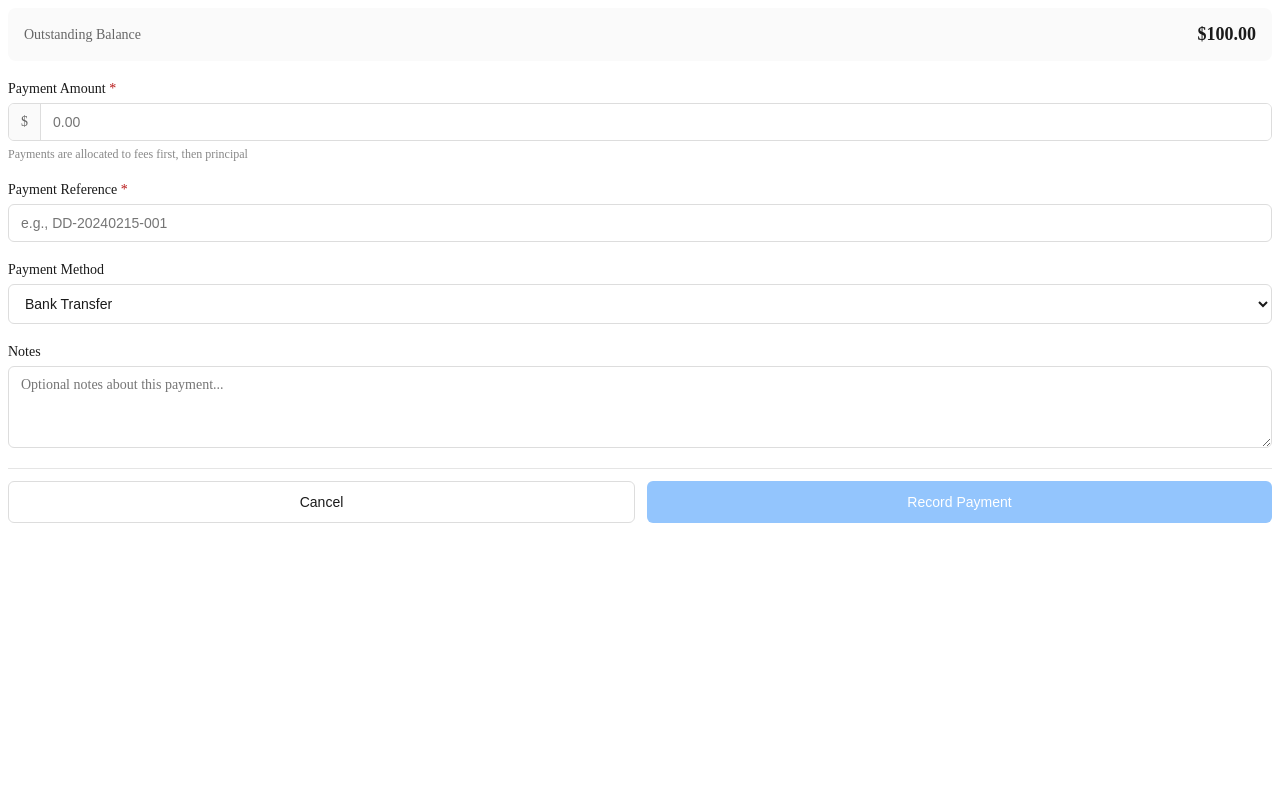
Test: RecordRepaymentDrawer › overpayment detection › should show overpayment confirmation when amount exceeds balance
Enter overpayment
Step 1. Type "150" into the number field labelled "Payment Amount *" → (656, 122), box [41, 104, 1271, 140]
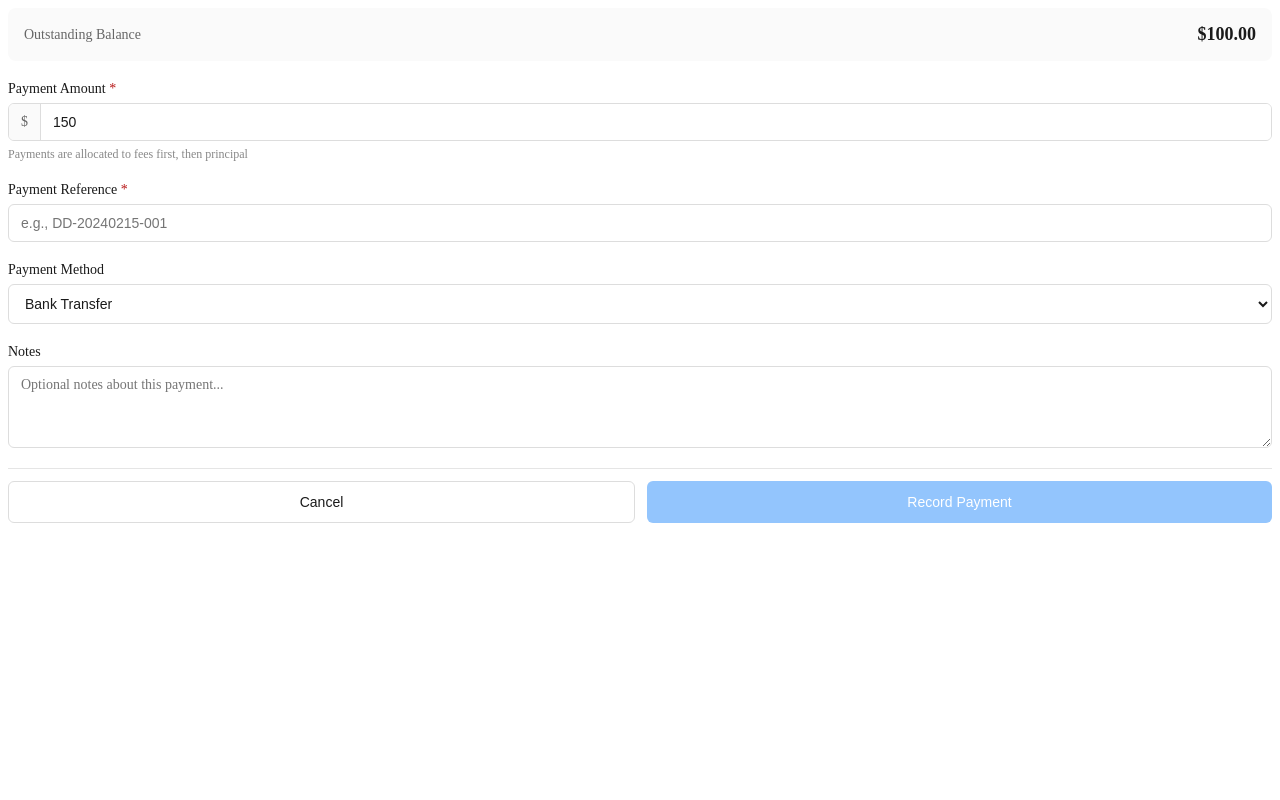
Step 2. Type "REF-001" into the field labelled "Payment Reference *" → (640, 223), box [8, 204, 1272, 242]
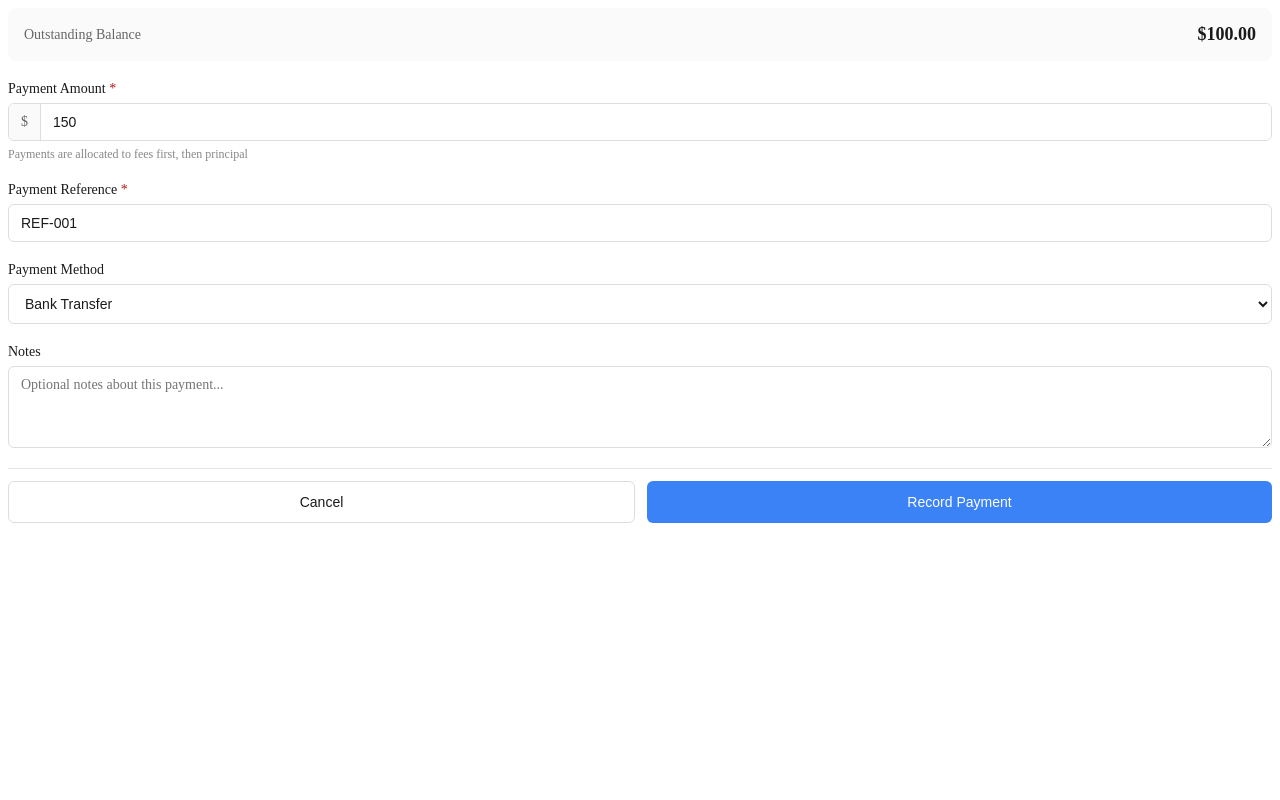
Submit form
Step 3. Submit the form named "record payment"
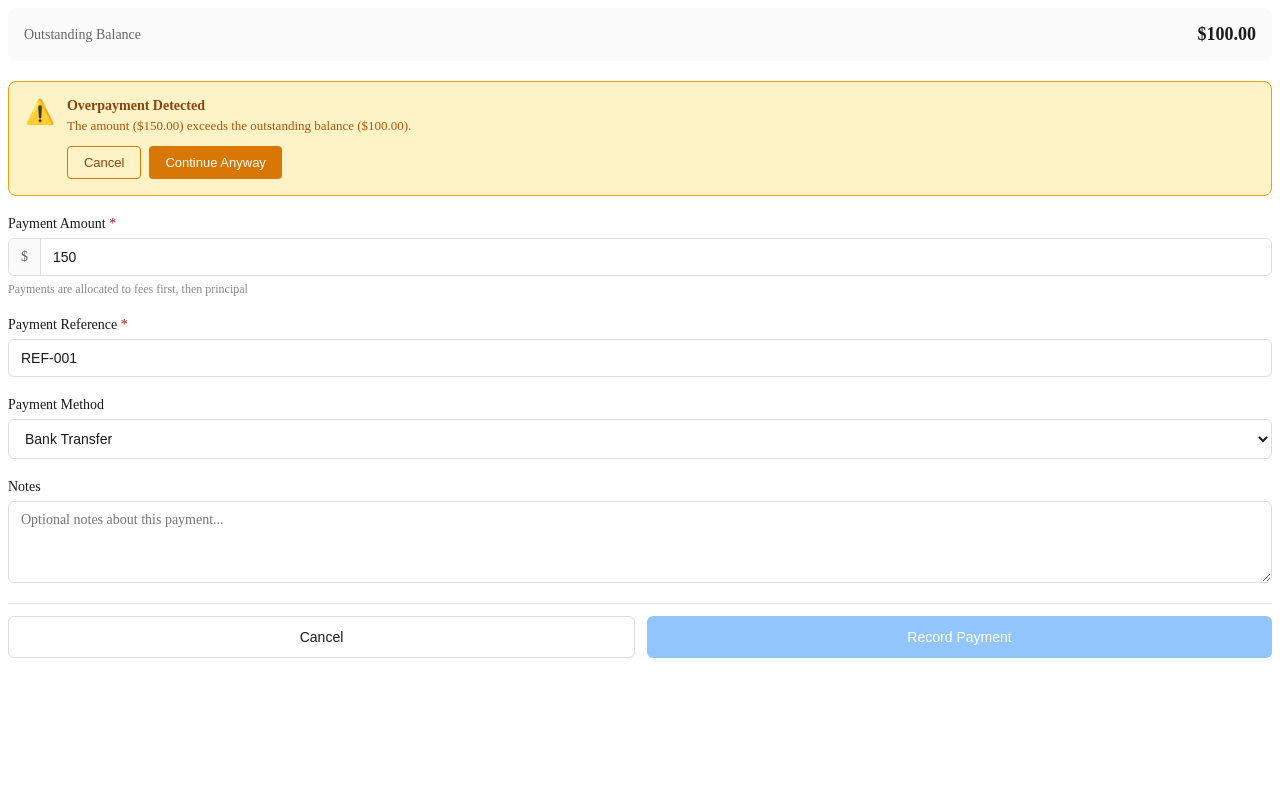
Check: the text "Overpayment Detected" is shown, box [67, 98, 205, 113]
